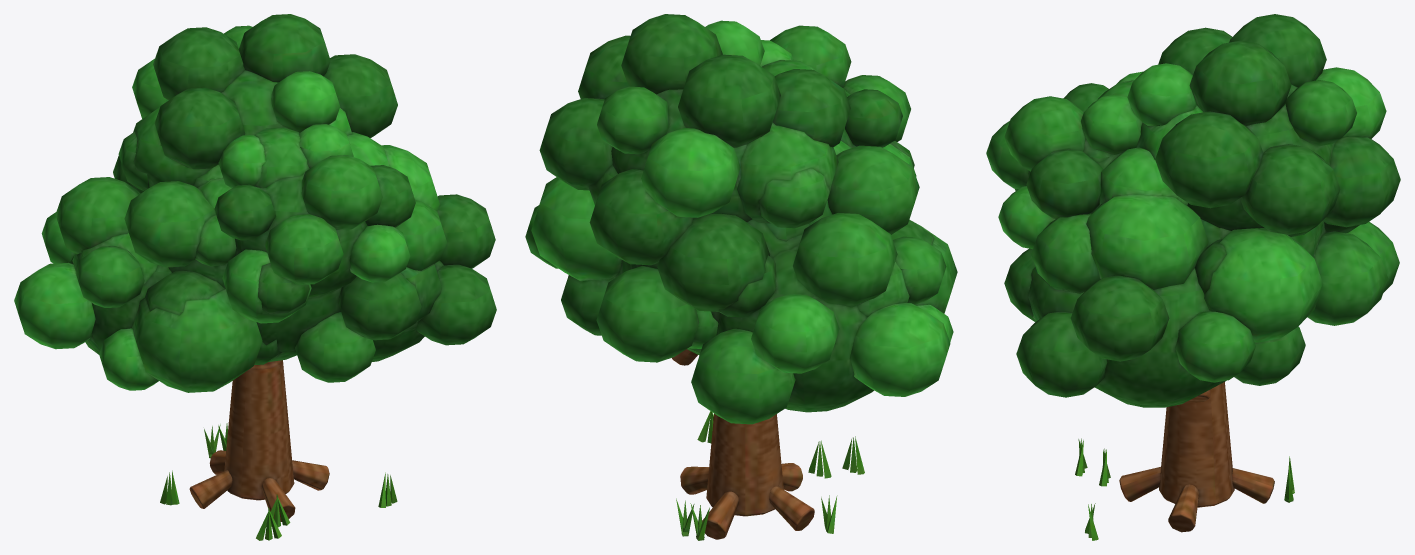
File: passion_fruit_tree.glb
3 renders of one model, left to right at view 1: azimuth 30°, elevation 25°; view 2: azimuth 150°, elevation 25°; view 3: azimuth 270°, elevation 25°, orthographic. The views are drawn at different scales.
Visible parts, largest first — view 1: crown, passion_fruit_tree; view 2: crown, passion_fruit_tree; view 3: crown, passion_fruit_tree.
Boxes of the visible parts, x1,y1,x2,y2 form: crown: (14, 14, 496, 392); passion_fruit_tree: (160, 360, 397, 540); crown: (525, 14, 957, 424); passion_fruit_tree: (672, 349, 864, 540); crown: (986, 14, 1400, 407); passion_fruit_tree: (1075, 382, 1294, 540).
Bounding box in the file's own units: 1.18 × 1.25 × 0.9761.
Materials: 1 (1 with a texture image).
